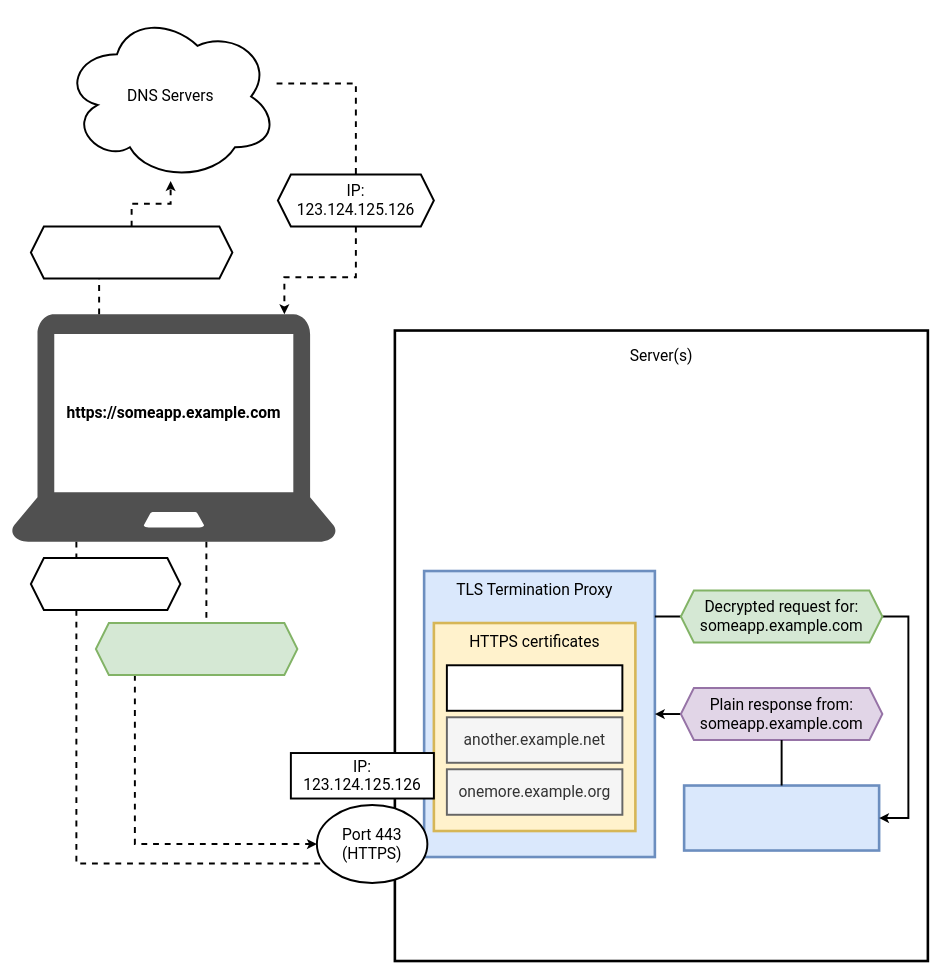
This 940x974 diagram has some shape labels left out. The centre of each missing label's shape, as x and y in pixels:
Encrypted request for: someapp.example.com: [196,649]
someapp.example.com: [534,687]
Squall app for: someapp.example.com: [781,818]
TLS Handshake: [105,584]
Who is: someapp.example.com: [131,252]
